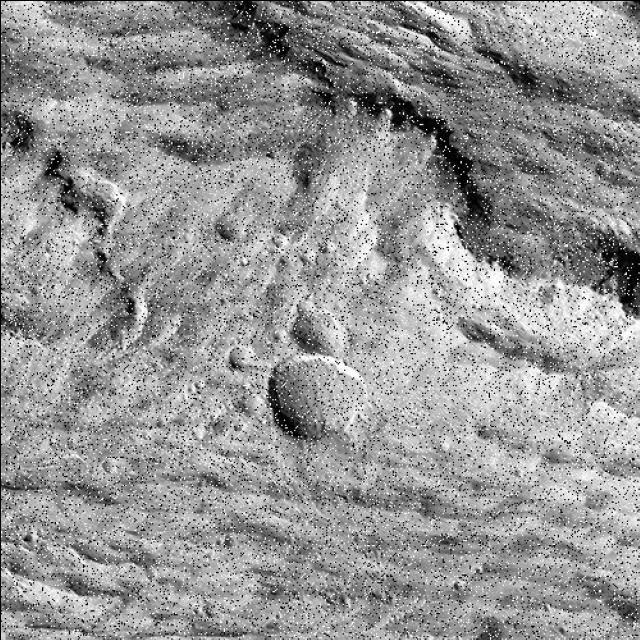crater: (255, 340, 378, 460), (286, 290, 358, 368)
